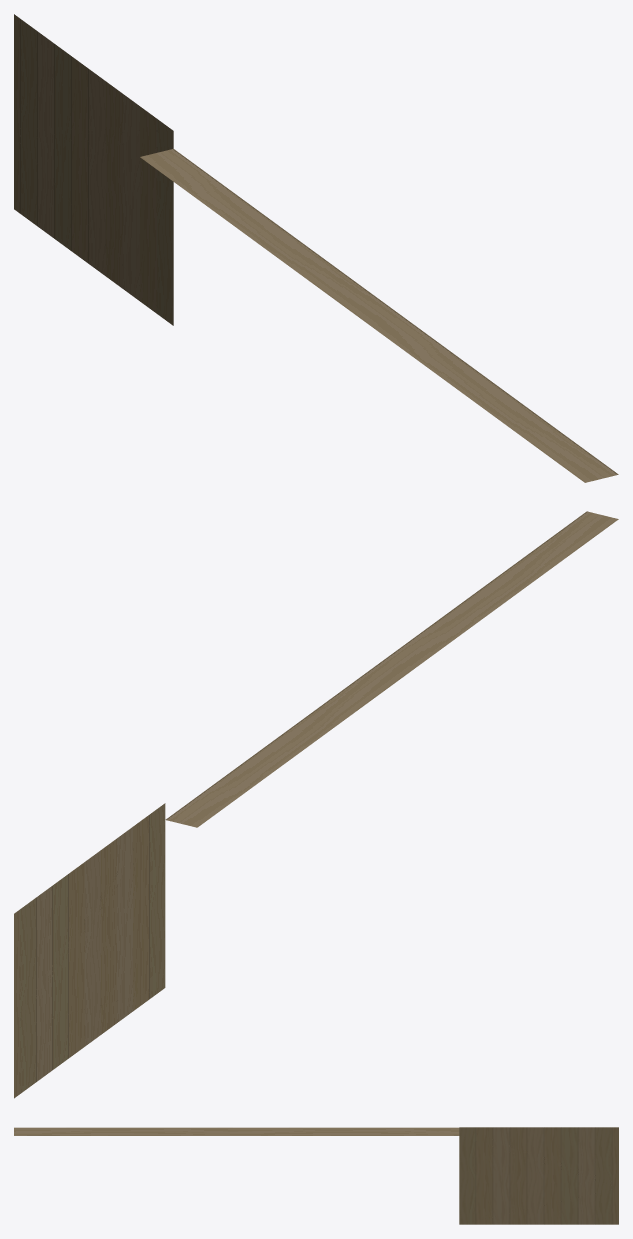
File: kd_stage_135b75_4_11_bounded_portal.glb
3 views of the same model, one above another, from view 1: azimuth 30°, elevation 25°; view 2: azimuth 150°, elevation 25°; view 3: azimuth 270°, elevation 25° (orthographic). The views are drawn at different scales.
Parts seen in each view (by area): view 1: kd_stage_135b75_4_11_bounded_portal; view 2: kd_stage_135b75_4_11_bounded_portal; view 3: kd_stage_135b75_4_11_bounded_portal.
Part boxes in pixels (x1,y1,x2,y2): kd_stage_135b75_4_11_bounded_portal: [14, 14, 618, 482]; kd_stage_135b75_4_11_bounded_portal: [14, 511, 618, 1098]; kd_stage_135b75_4_11_bounded_portal: [14, 1127, 618, 1224].
Bounding box in the file's own units: 0.0996 × 0.5475 × 3.08.
1 material, 1 textured.
